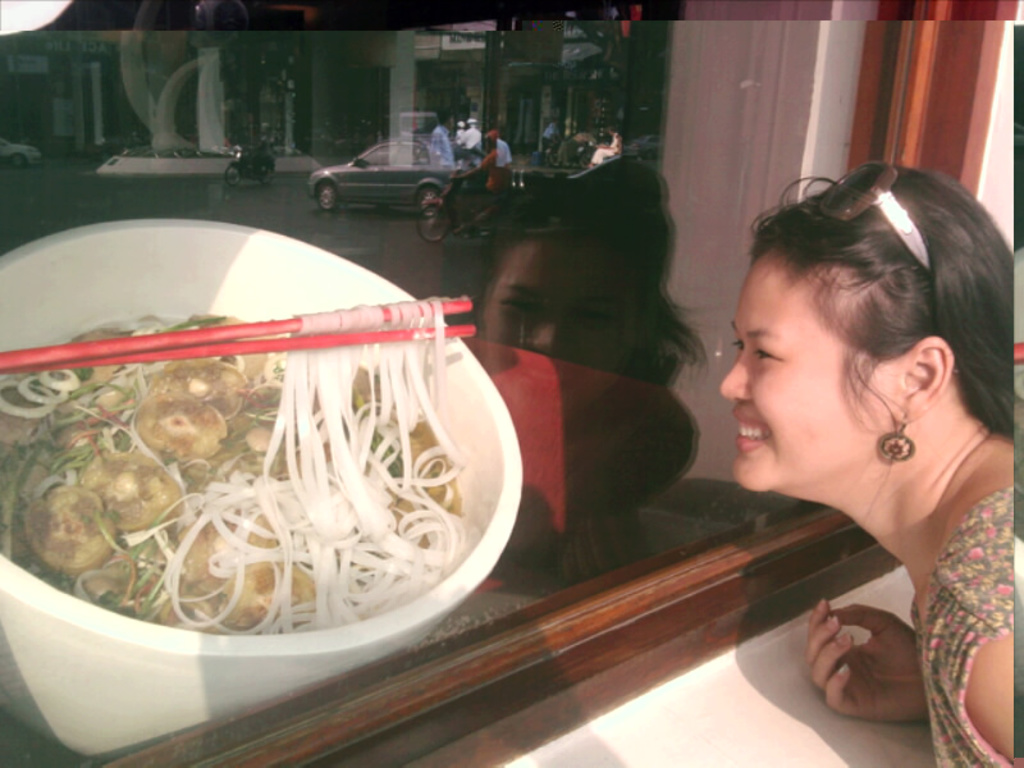Human_hand: (800, 594, 936, 727)
